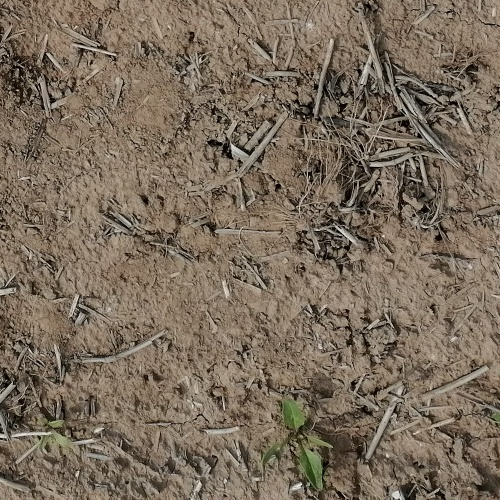beet: (275, 397, 327, 494)
